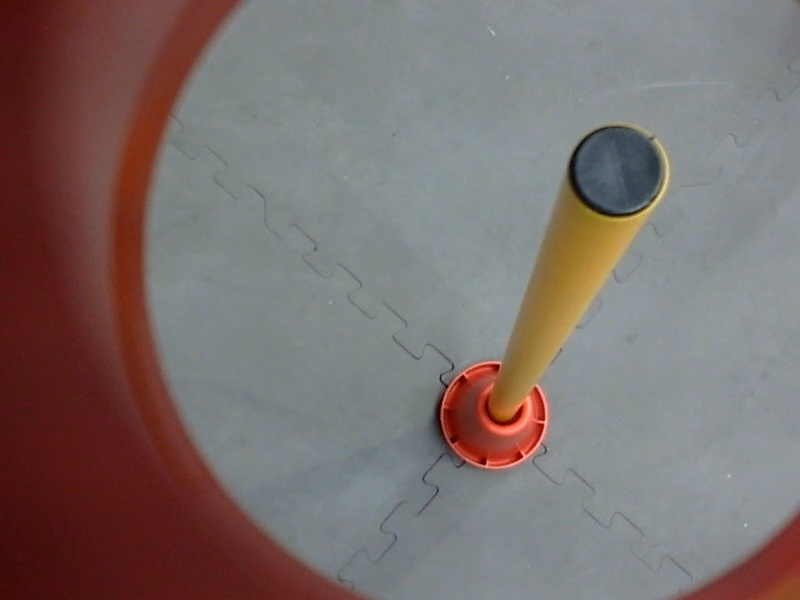tip: (561, 113, 678, 226)
